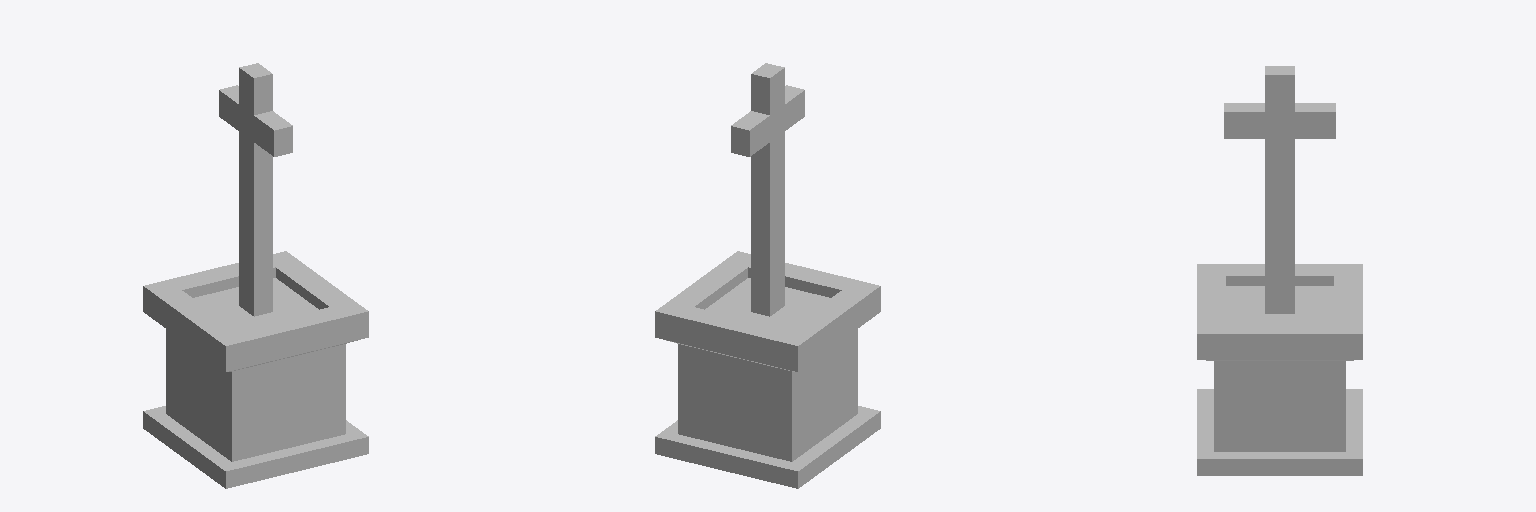
File: Cross_Wood_2 1.obj
3 views of the same model, side by side, from view 1: azimuth 30°, elevation 25°; view 2: azimuth 150°, elevation 25°; view 3: azimuth 270°, elevation 25° (orthographic).
Visible parts, largest first — view 1: Cross_Wood_2; view 2: Cross_Wood_2; view 3: Cross_Wood_2.
Part boxes in pixels (x1,y1,x2,y2): Cross_Wood_2: (143,63,368,488); Cross_Wood_2: (655,63,880,488); Cross_Wood_2: (1197,66,1362,475).
Bounding box in the file's own units: 0.43 × 1.06 × 0.43.